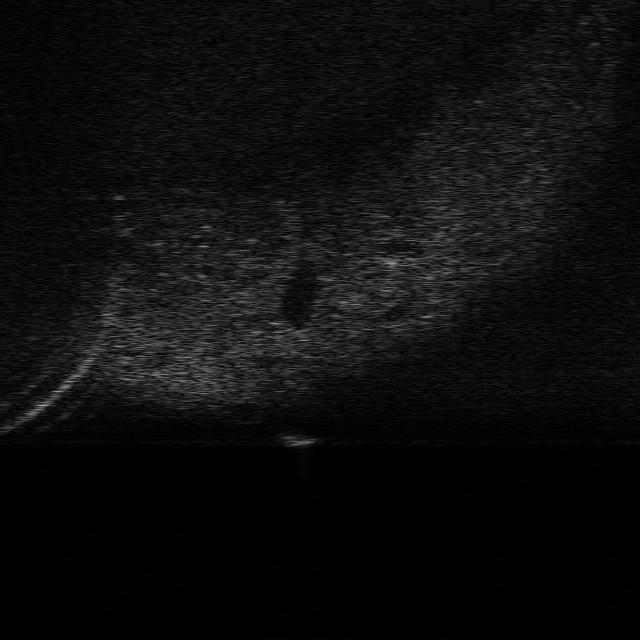cube: (275, 426, 324, 449)
